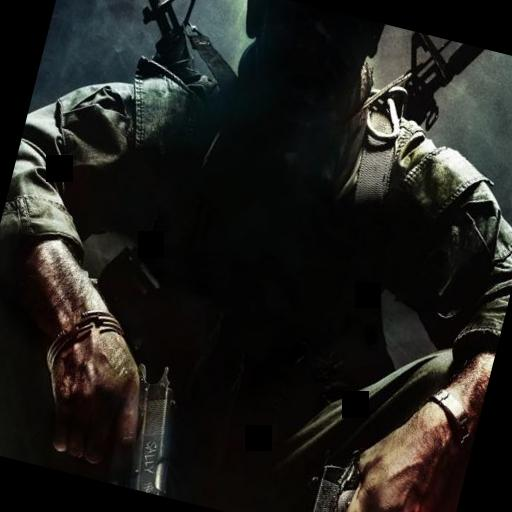Handgun: (103, 358, 198, 496), (294, 423, 371, 512)
